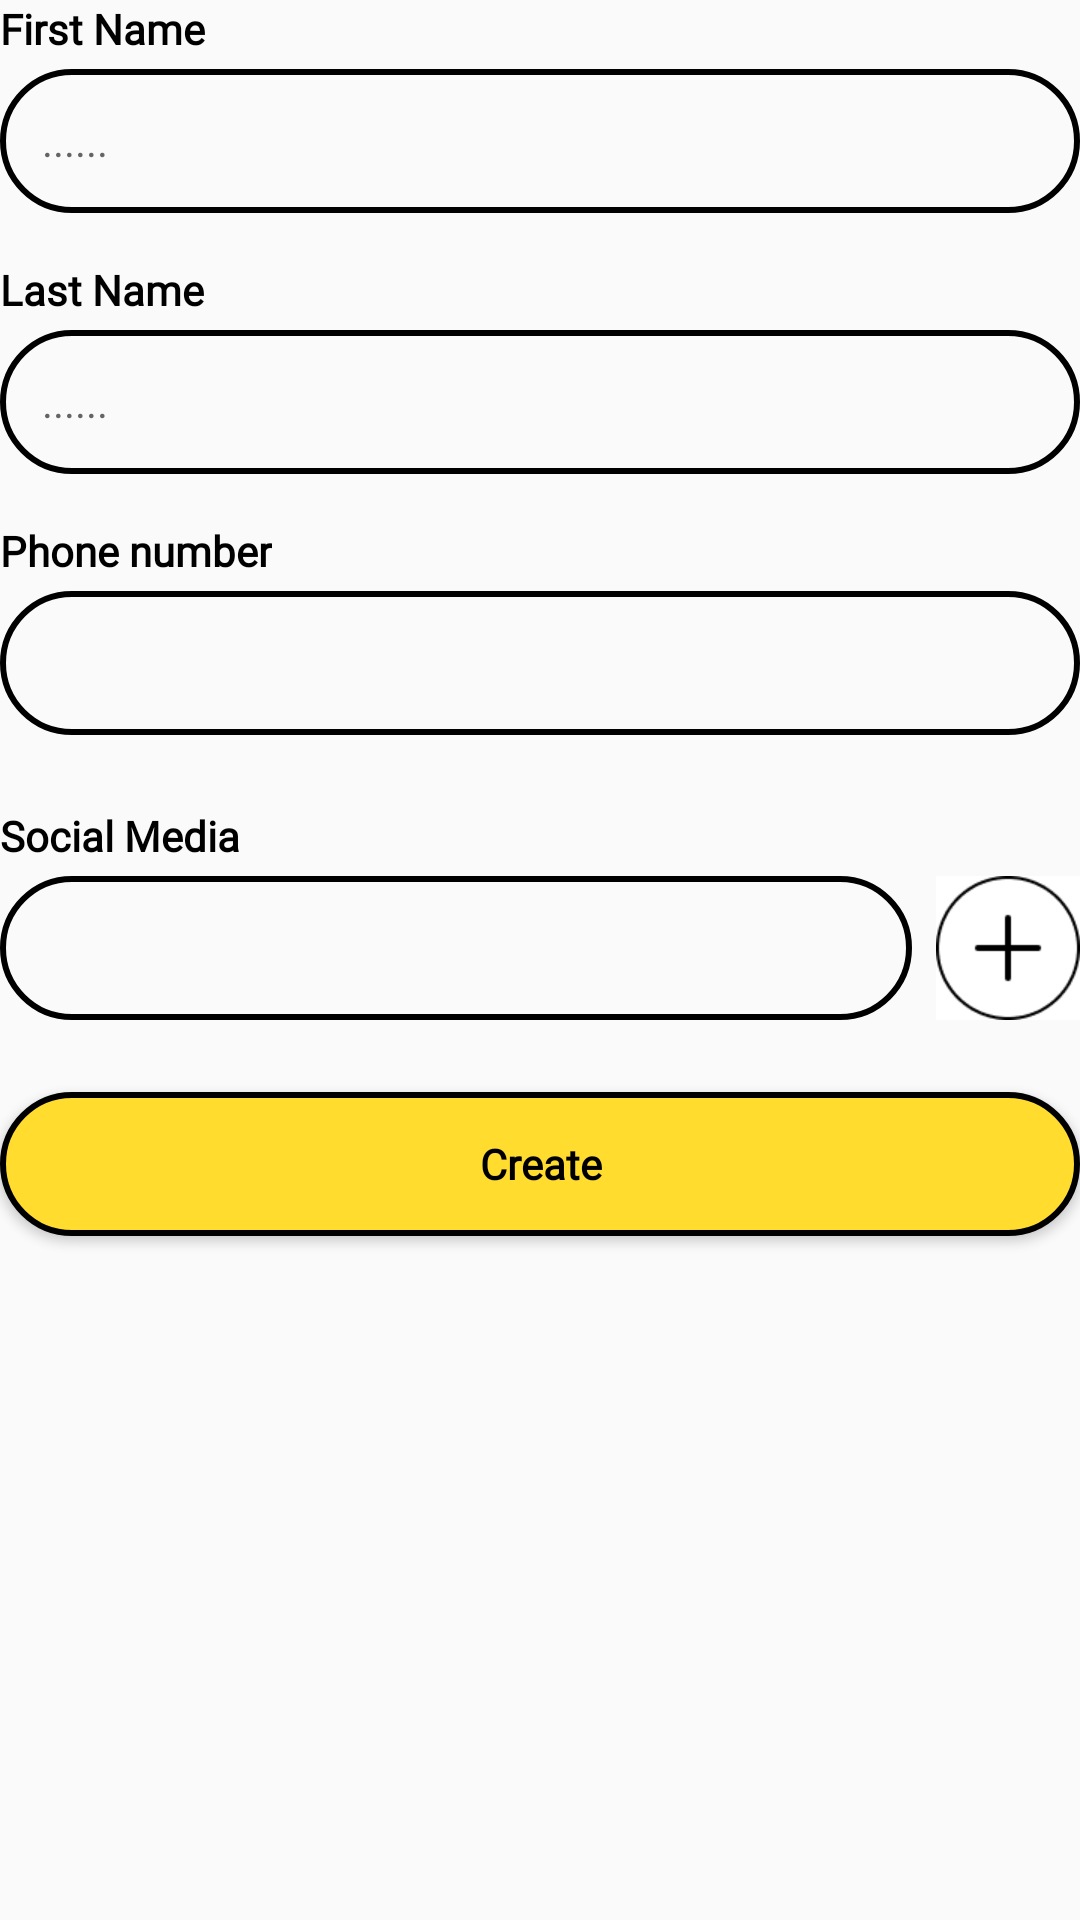

Locate icon controls on the screen. Image size 1080×1920, boxes as (left=x1, top=y1, right=x2, bottom=y2).
add: (left=936, top=876, right=1080, bottom=1020)
